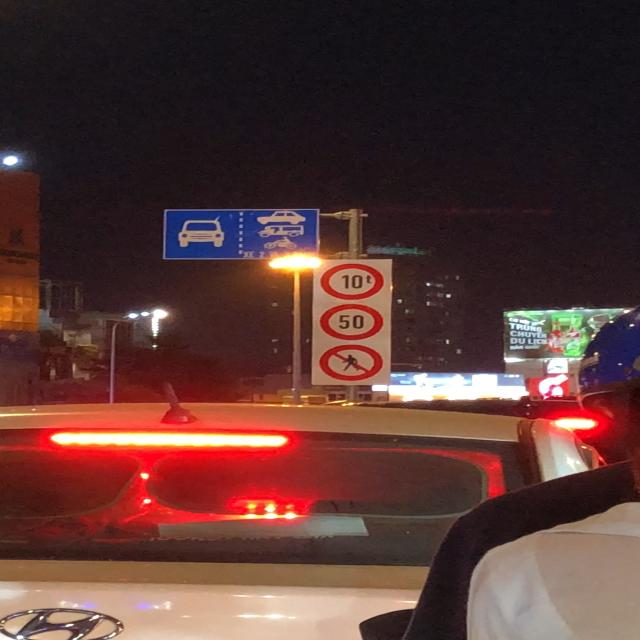Bien bao cam nguoi di bo: (317, 344, 387, 383)
Bien bao toc do toi da cho phep: (319, 300, 384, 343)
